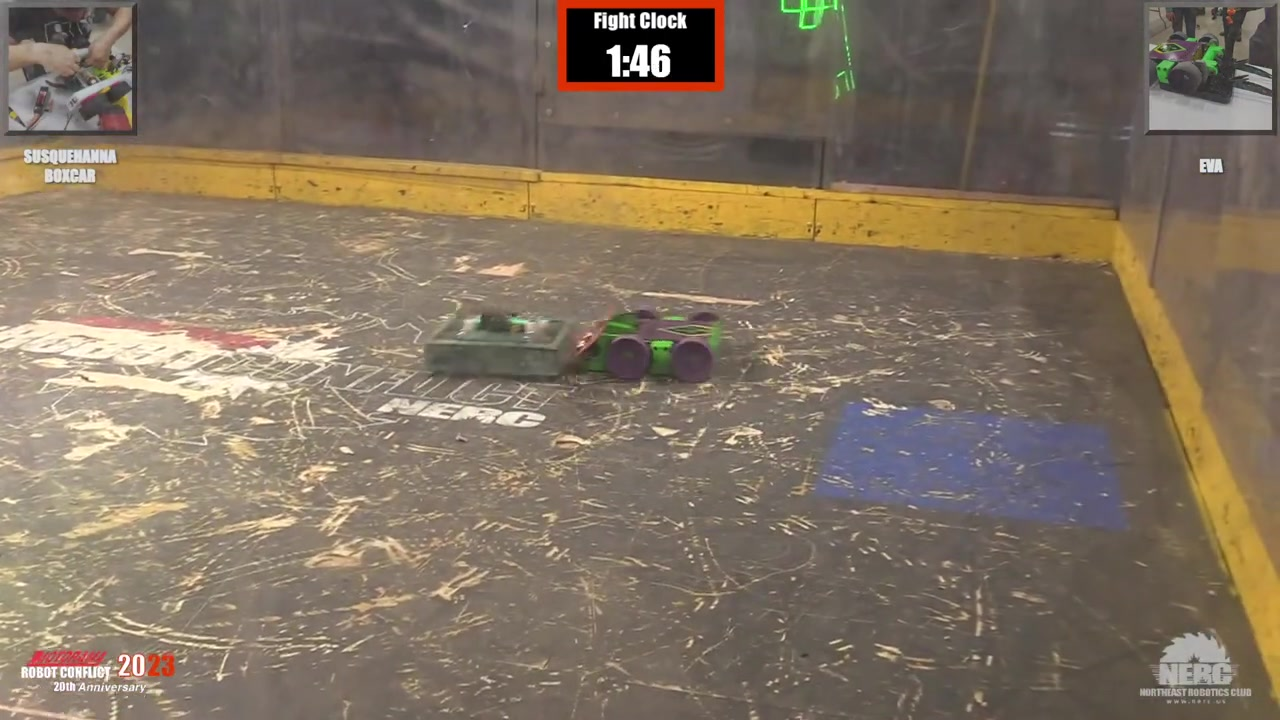combatbot: (587, 311, 720, 382), (426, 312, 577, 373)
